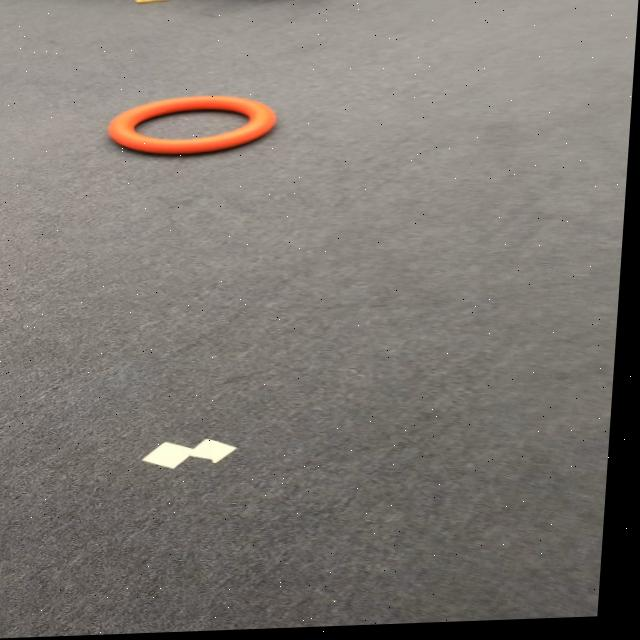note: (109, 93, 281, 159)
